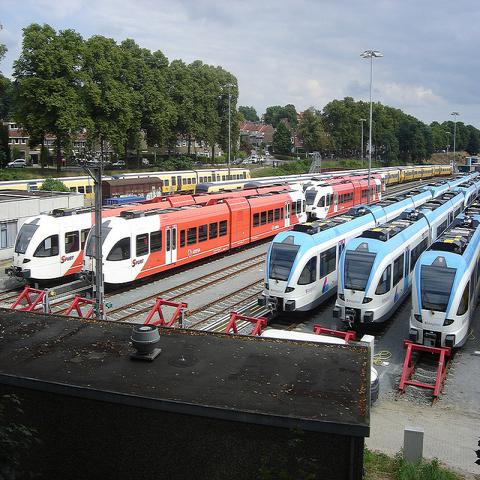car: (8, 159, 27, 168), (232, 157, 243, 165), (112, 160, 125, 165), (241, 160, 249, 164), (195, 161, 202, 165)
